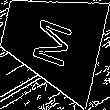M_W: (27, 11, 76, 69)
